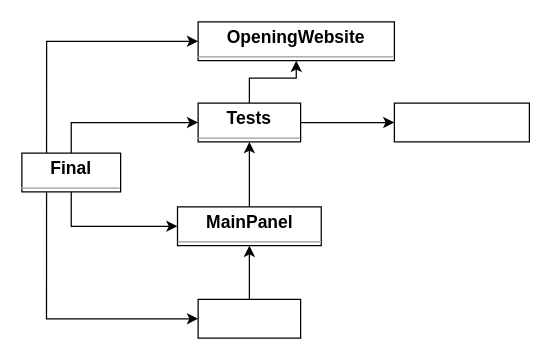
This 551x360 diagram has some shape labels left out. Each missing label, with the box of its shape:
Main: (197, 298, 301, 338)
TestsTest: (393, 102, 529, 142)
